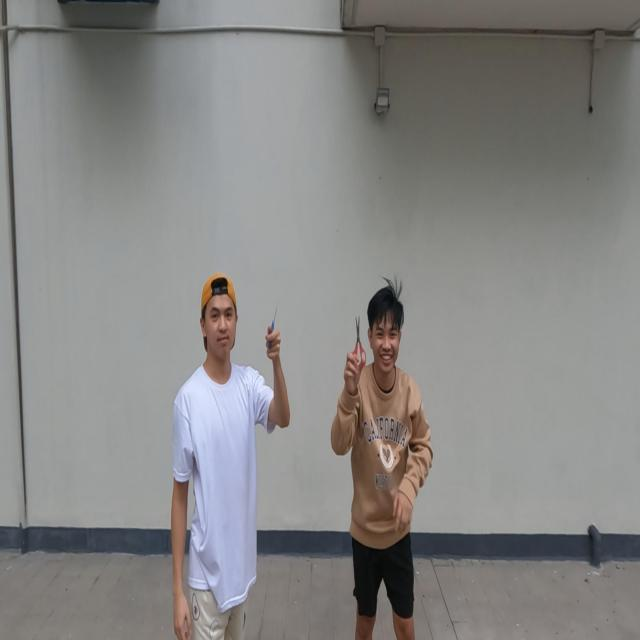scissor: (350, 314, 367, 365)
